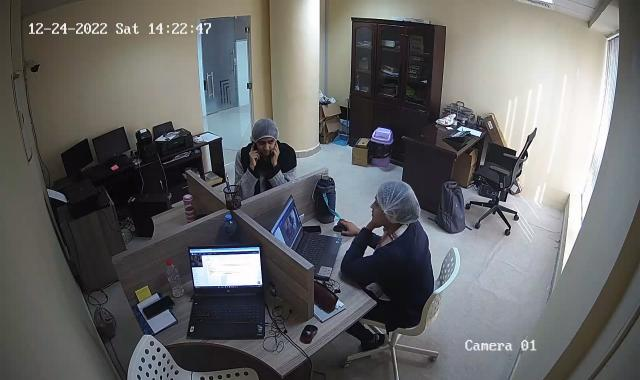hairnet: (371, 183, 421, 230), (250, 119, 281, 155)
